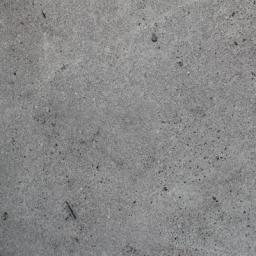FOD: (61, 198, 80, 224)
